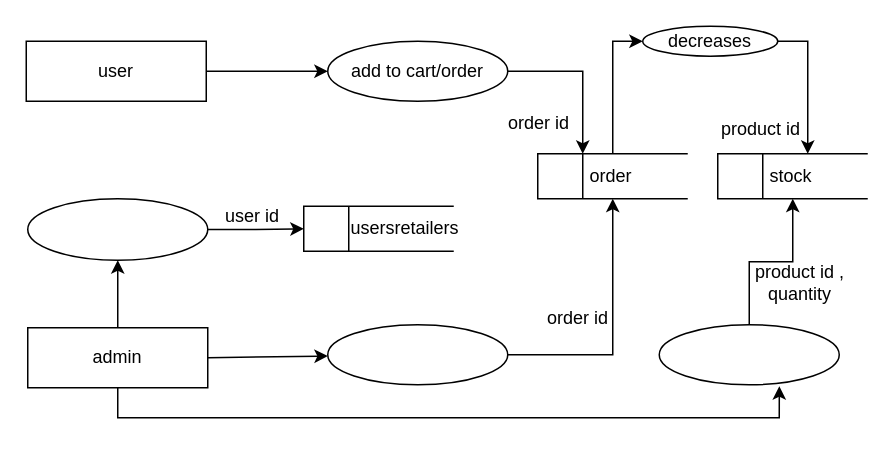
Image size: 894x456. Some labels were removed from this diagram. Each missing label, with the centre of its shape:
"manage user" goes at [117,228].
"updating order" goes at [417,354].
"updating stock" goes at [748,354].
